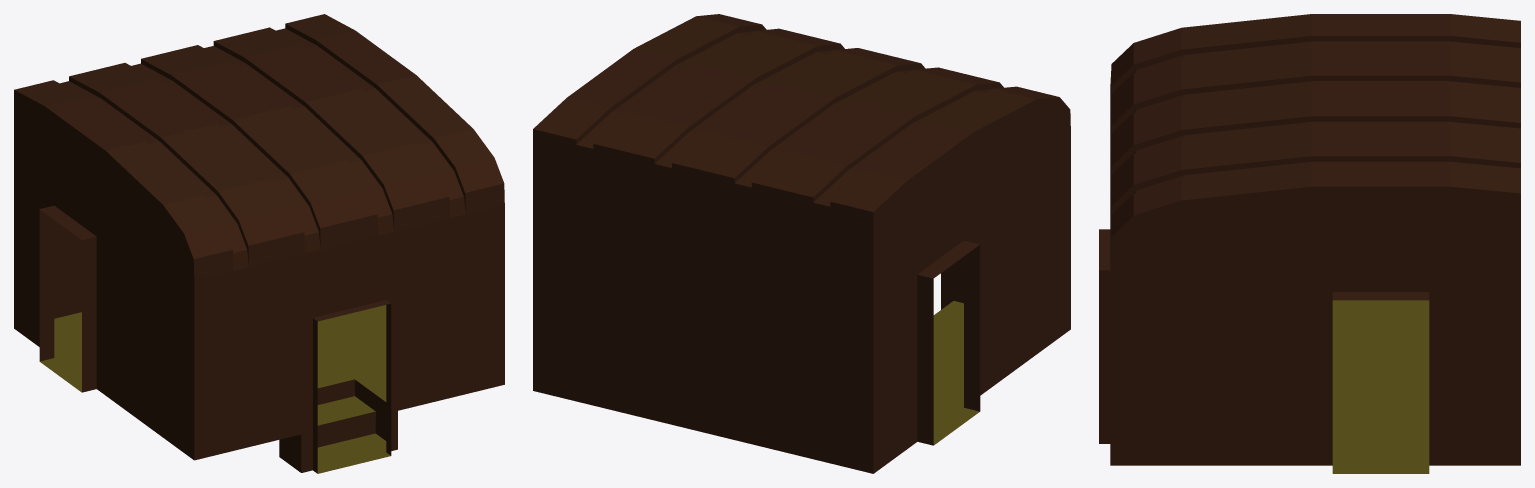
The model's file is StartingCarriage.fbx.
The picture shows the model from 3 angles, left to right: view 1: azimuth 30°, elevation 25°; view 2: azimuth 150°, elevation 25°; view 3: azimuth 270°, elevation 25°; orthographic projection. The views are drawn at different scales.
Parts seen in each view (by area): view 1: StartingRoom; view 2: StartingRoom; view 3: StartingRoom.
Boxes of the visible parts, left/top/right/bottom form: StartingRoom: left=14, top=14, right=504, bottom=473; StartingRoom: left=533, top=14, right=1070, bottom=473; StartingRoom: left=1099, top=14, right=1520, bottom=473.
Size of the model in its own units: 655 by 522 by 618.
